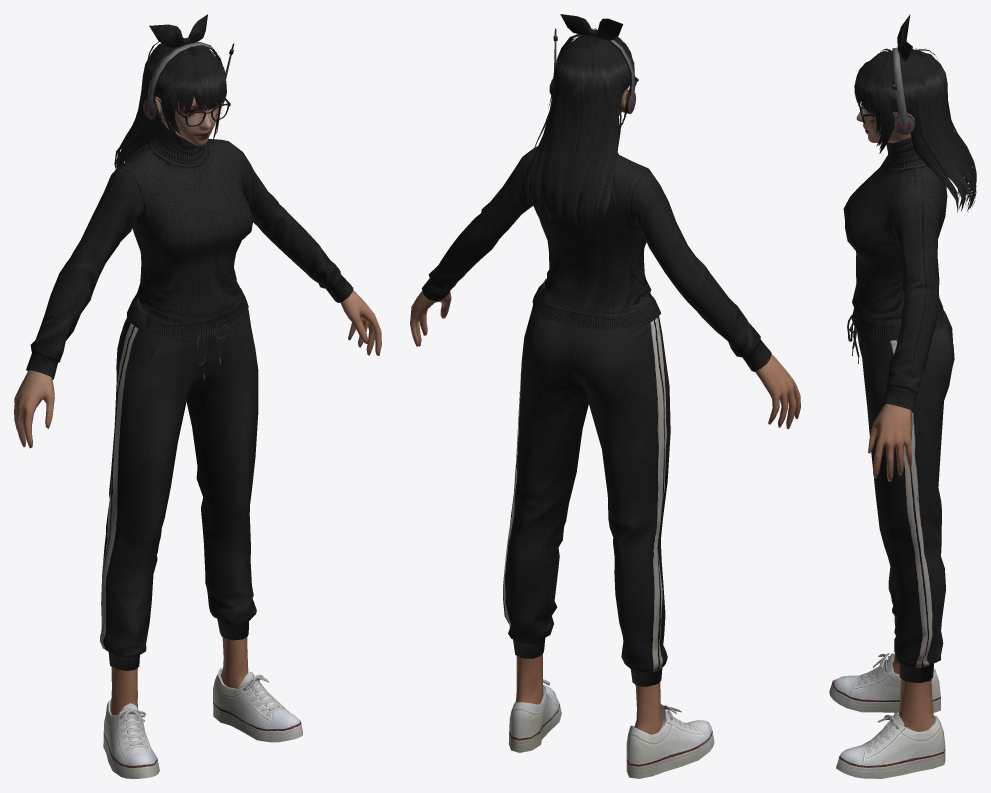
The model's file is freefire_new_girl_3d_model_by_pace_gaming.glb.
3 views of the same model, side by side, from view 1: azimuth 30°, elevation 25°; view 2: azimuth 150°, elevation 25°; view 3: azimuth 270°, elevation 25° (orthographic). The views are drawn at different scales.
Visible parts, largest first — view 1: Object_4, Object_5, Object_3, Object_2, Object_8, Object_7; view 2: Object_4, Object_5, Object_8, Object_3, Object_2, Object_7; view 3: Object_4, Object_5, Object_8, Object_3, Object_2, Object_7.
Boxes of the visible parts, box(x1,y1,x2,y2) form: Object_4: box(100, 298, 258, 670); Object_5: box(26, 117, 353, 379); Object_3: box(103, 668, 302, 778); Object_2: box(14, 96, 381, 715); Object_8: box(114, 37, 226, 169); Object_7: box(143, 14, 234, 119); Object_4: box(503, 278, 670, 686); Object_5: box(422, 146, 771, 371); Object_8: box(524, 28, 634, 226); Object_3: box(508, 679, 714, 778); Object_2: box(410, 79, 800, 734); Object_7: box(549, 14, 635, 113); Object_4: box(847, 309, 954, 682); Object_5: box(843, 137, 947, 412); Object_8: box(854, 48, 976, 212); Object_3: box(829, 653, 945, 778); Object_2: box(855, 102, 934, 731); Object_7: box(891, 14, 915, 134).
Bounding box in the file's own units: 2.87 × 5.36 × 1.01.
Materials: 7 (7 with a texture image).
